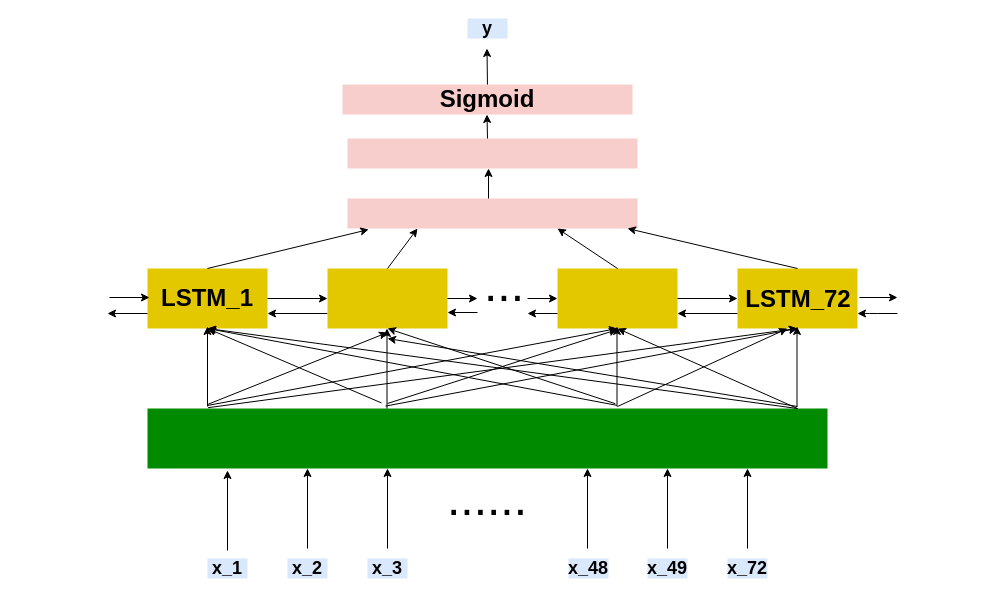
Image size: 1005x596. Some labels were removed from this diagram. The shapes that lost their labels are listed below. From the top down, each one's centre as x and y in pixels, then its label:
the point at 492,153: Dense
the point at 492,213: Global Maxpool 1D
the point at 387,298: LSTM_2
the point at 617,298: LSTM_71
the point at 487,438: Embedding Layer
